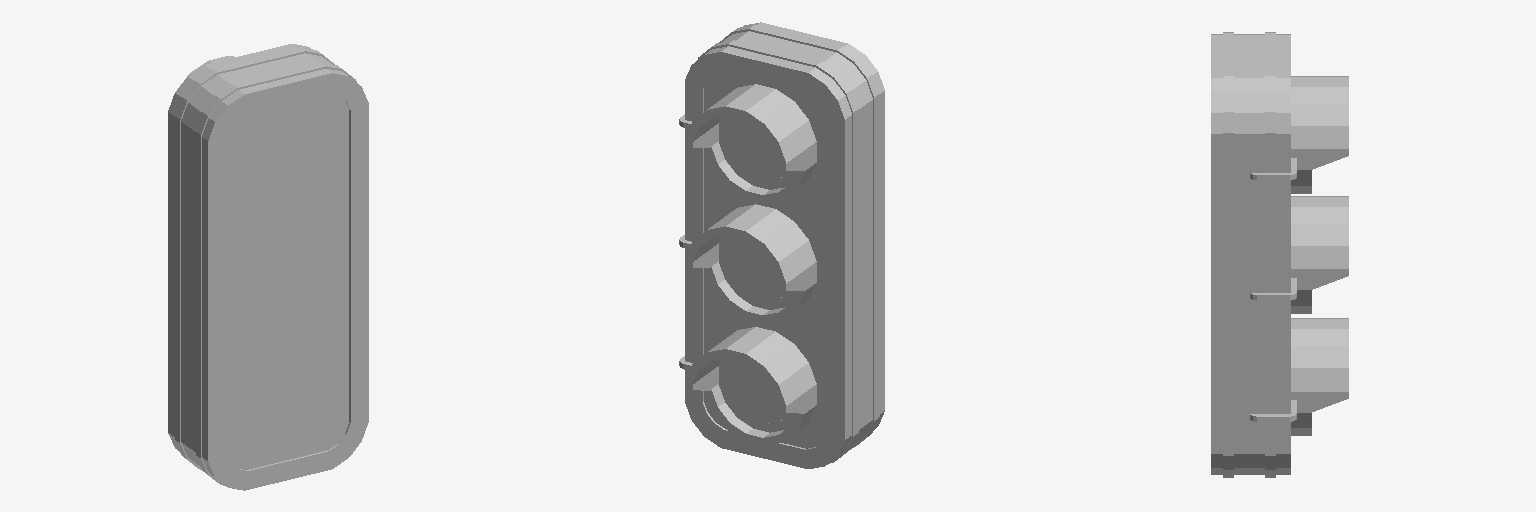
The model's file is trafficlight.obj.
The picture shows the model from 3 angles: view 1: azimuth 30°, elevation 25°; view 2: azimuth 150°, elevation 25°; view 3: azimuth 270°, elevation 25°; orthographic projection.
Visible parts, largest first — view 1: trafficlight; view 2: trafficlight, red, orange, green; view 3: trafficlight.
Part boxes in pixels (bbox=[...]): trafficlight: bbox=[168, 44, 368, 490]; trafficlight: bbox=[679, 22, 884, 468]; red: bbox=[726, 116, 788, 180]; orange: bbox=[726, 236, 789, 300]; green: bbox=[726, 359, 789, 423]; trafficlight: bbox=[1211, 32, 1348, 477].
Size of the model in its own units: 0.4277 by 0.9822 by 0.3087.